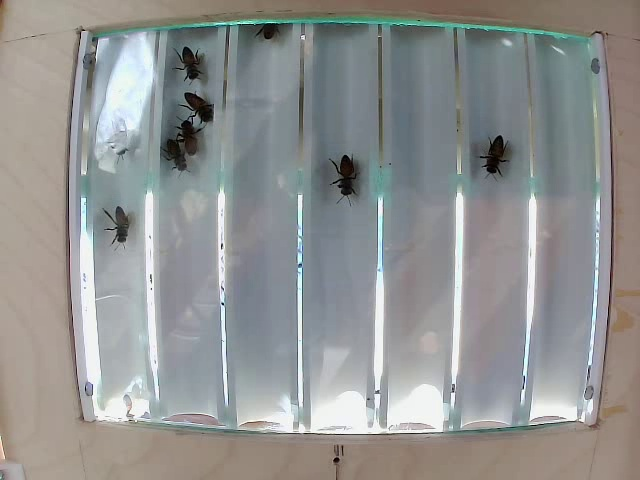bee: (484, 126, 513, 189), (336, 149, 360, 214), (178, 113, 205, 165), (97, 204, 129, 247), (157, 136, 192, 174), (181, 88, 216, 124), (177, 40, 202, 84)
